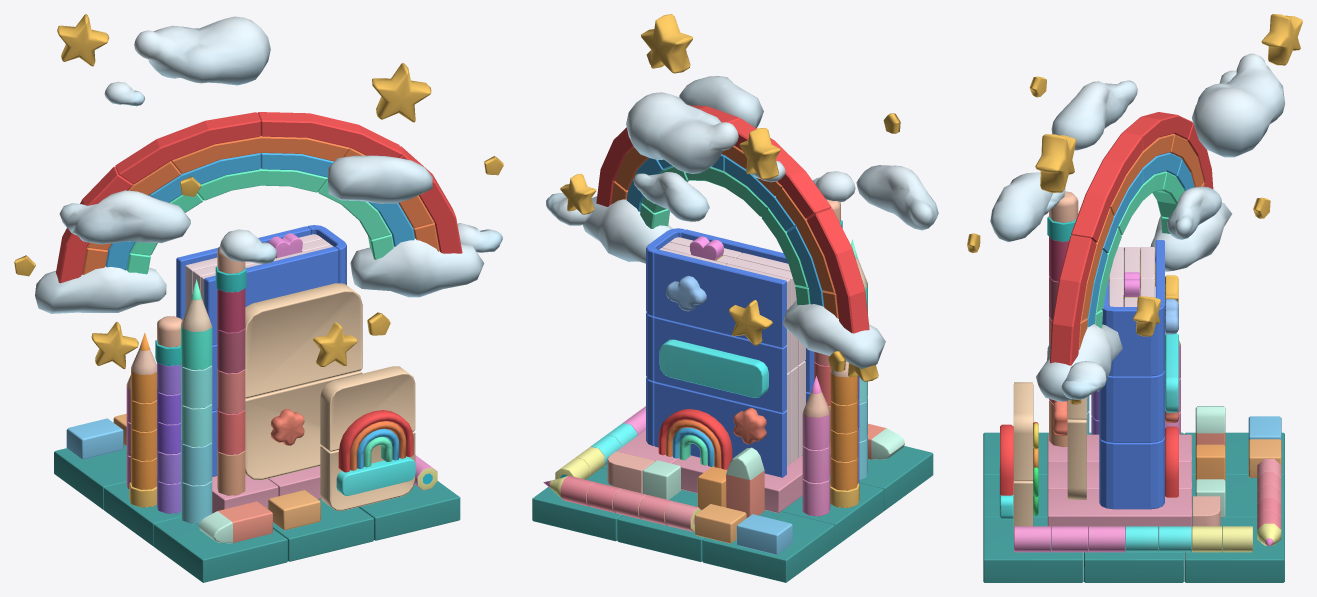
The model's file is Level_P_09.fbx.
3 renders of one model, left to right at view 1: azimuth 30°, elevation 25°; view 2: azimuth 150°, elevation 25°; view 3: azimuth 270°, elevation 25°, orthographic. The views are drawn at different scales.
Parts seen in each view (by area): view 1: LV2_Book_5, cloud02, LV2_Book_5.003, Cloud, cloud02.001, LV7_Book_4.001, LV2_Book_5.001, Cloud.001, Cloud.002, LV2_Book_18.001, Cylinder.074, LV7_Book_4.007 (+56 smaller); view 2: LV2_Book_18.006, cloud02, LV2_Book_18.005, LV7_Book_4.002, LV2_Book_18.004, LV4_Book_10.009, Cloud.001, Cylinder.073, cloud02.001, Cloud, LV7_Book_4, LV7_Book_4.005 (+58 smaller); view 3: cloud02, LV2_Book_18, LV7_Book_4.007, LV2_Book_18.008, LV7_Book_4, LV6_Book_4, Cylinder.076, cloud02.001, Cylinder.075, LV7_Book_4.008, LV2_Book_18.007, Cloud.002 (+51 smaller).
Boxes of the visible parts, x1,y1,x2,y2 form: LV2_Book_5: (245, 283, 362, 398); cloud02: (134, 16, 270, 85); LV2_Book_5.003: (245, 371, 362, 480); Cloud: (350, 238, 484, 297); cloud02.001: (59, 190, 190, 244); LV7_Book_4.001: (153, 517, 287, 582); LV2_Book_5.001: (320, 366, 415, 451); Cloud.001: (35, 266, 166, 313); Cloud.002: (327, 155, 432, 203); LV2_Book_18.001: (204, 246, 338, 345); Cylinder.074: (115, 112, 260, 183); LV7_Book_4.007: (359, 481, 460, 540); LV2_Book_18.006: (654, 249, 786, 347); cloud02: (626, 92, 738, 173); LV2_Book_18.005: (654, 317, 786, 412); LV7_Book_4.002: (702, 510, 834, 582); LV2_Book_18.004: (654, 382, 786, 477); LV4_Book_10.009: (659, 339, 768, 397); Cloud.001: (783, 300, 885, 368); Cylinder.073: (807, 208, 869, 333); cloud02.001: (856, 165, 938, 230); Cloud: (582, 196, 672, 263); LV7_Book_4: (532, 468, 642, 541); LV7_Book_4.005: (617, 489, 705, 561); cloud02: (1192, 53, 1285, 157); LV2_Book_18: (1099, 438, 1164, 509); LV7_Book_4.007: (983, 517, 1083, 582); LV2_Book_18.008: (1099, 371, 1164, 442); LV7_Book_4: (1184, 517, 1284, 582); LV6_Book_4: (1047, 489, 1191, 538); Cylinder.076: (1050, 235, 1096, 365); cloud02.001: (1051, 80, 1137, 150); Cylinder.075: (1071, 133, 1142, 242); LV7_Book_4.008: (1084, 539, 1184, 582); LV2_Book_18.007: (1102, 304, 1164, 376); Cloud.002: (990, 172, 1053, 241).
Size of the model in its own units: 16.15 by 16.84 by 11.22.
